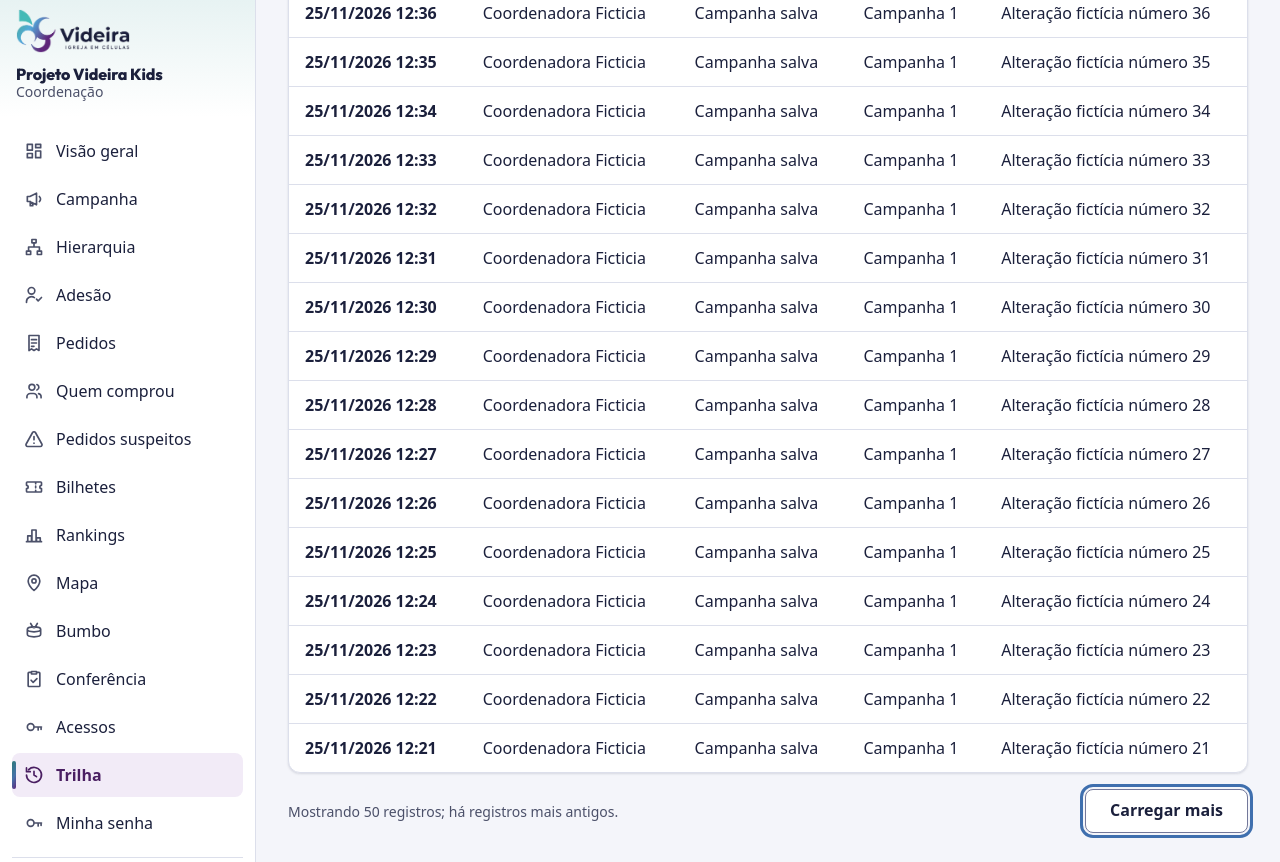
Test: RIFA-024: Carregar mais (cursor) e o foco › falha no Carregar mais: os registros ficam, o erro aparece e o botão tenta de novo
(page scrolled)
Click the button "Carregar mais" at (1166, 811), box [1085,789,1248,833]
(page scrolled)
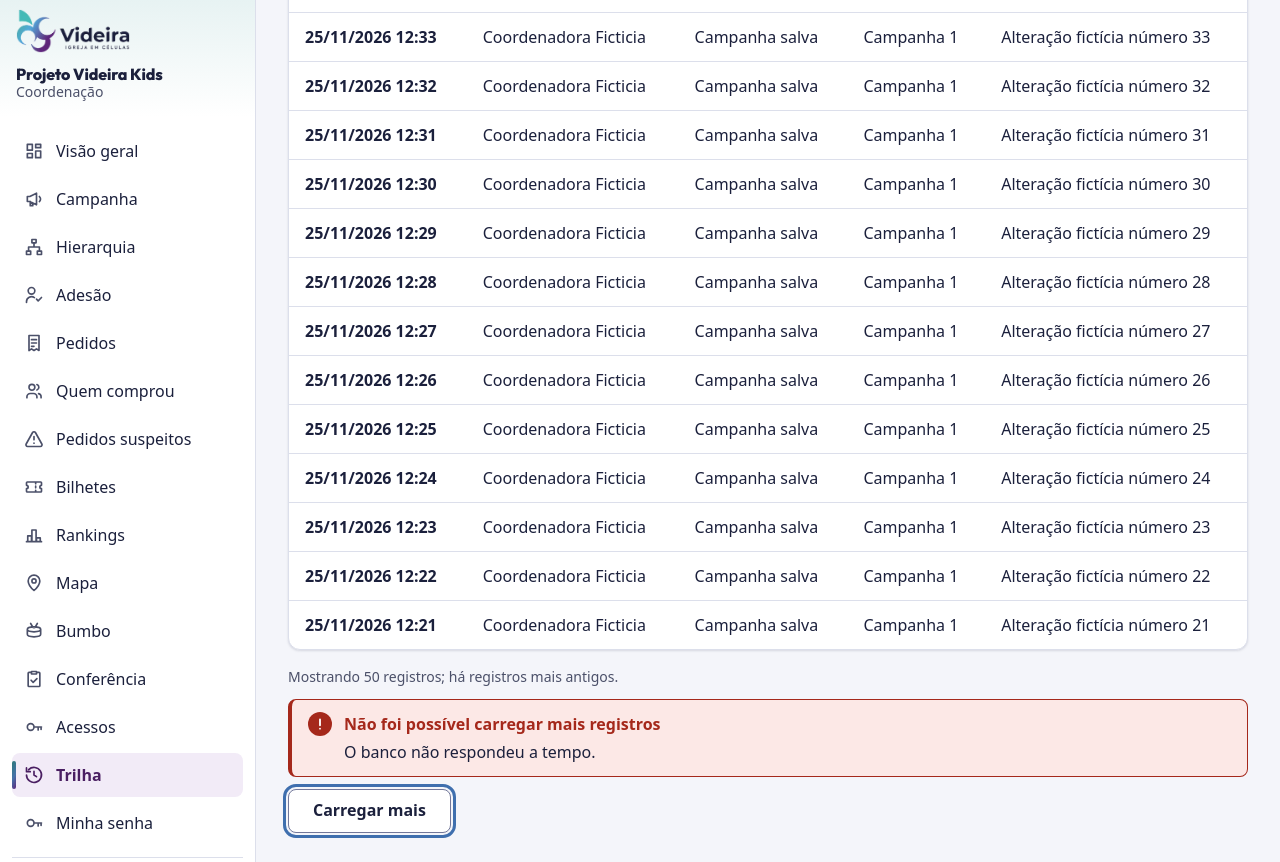
Result: the message shows "Não foi possível carregar mais registros" at [344,713,660,735]
Result: the message shows "O banco não respondeu a tempo." at [344,741,596,763]
Click the button "Carregar mais" at (370, 811), box [288,789,451,833]
(page scrolled)
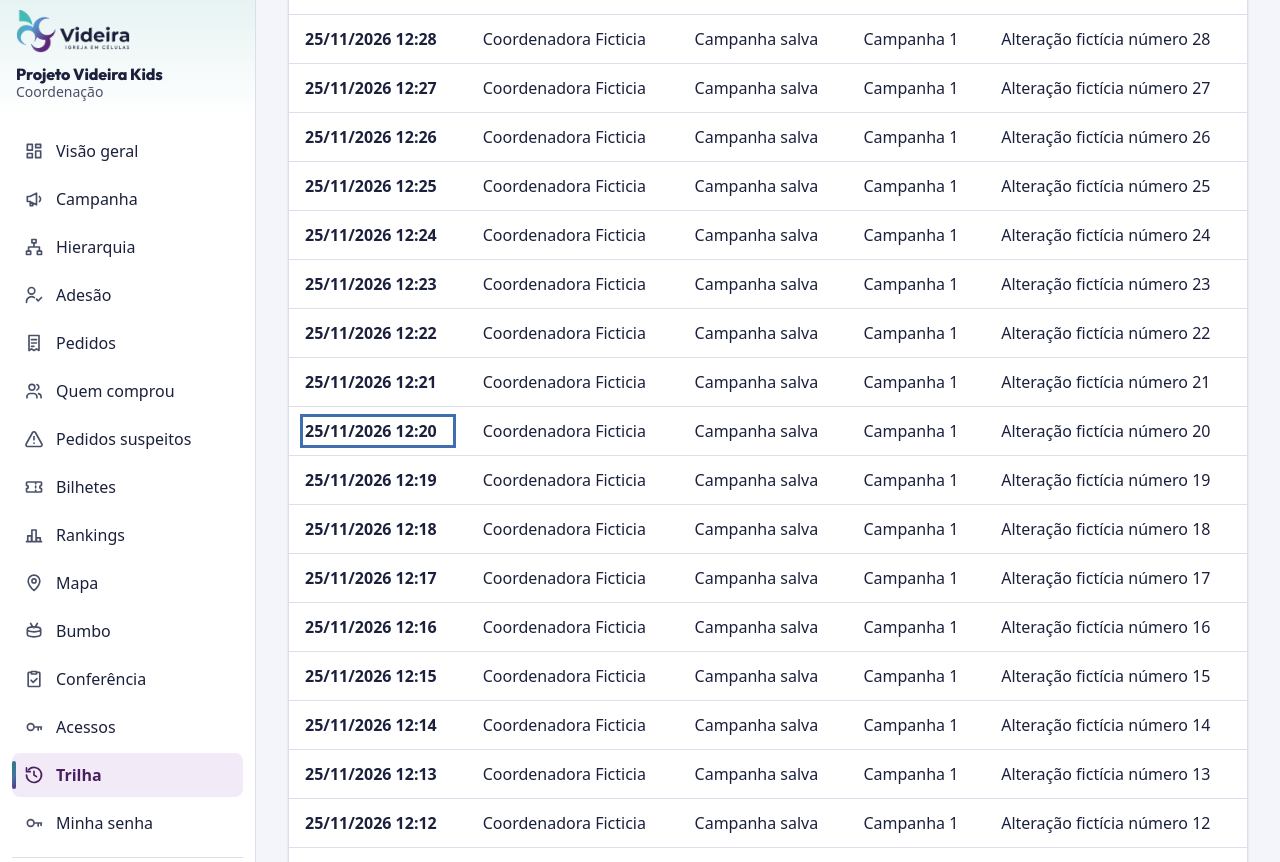
Result: the message "Não foi possível carregar mais registros O banco não respondeu a tempo." is gone
